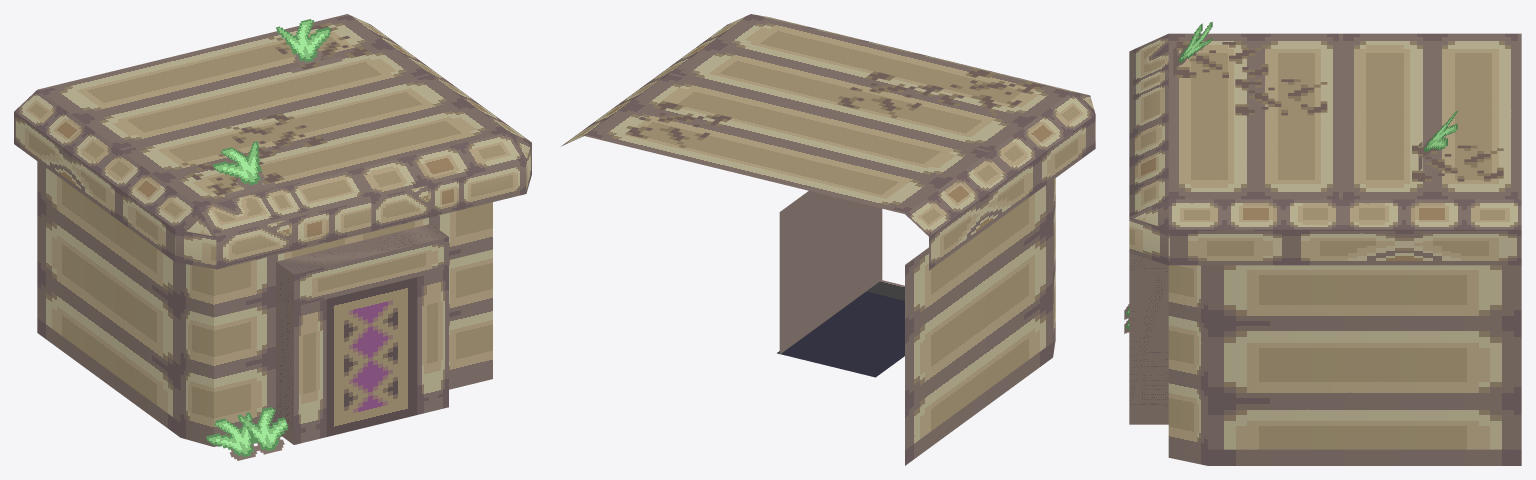
3 views of the same model, side by side, from view 1: azimuth 30°, elevation 25°; view 2: azimuth 150°, elevation 25°; view 3: azimuth 270°, elevation 25° (orthographic). The views are drawn at different scales.
Size of the model in its own units: 5.75 by 4.25 by 5.06.
3 materials, 3 textured.
